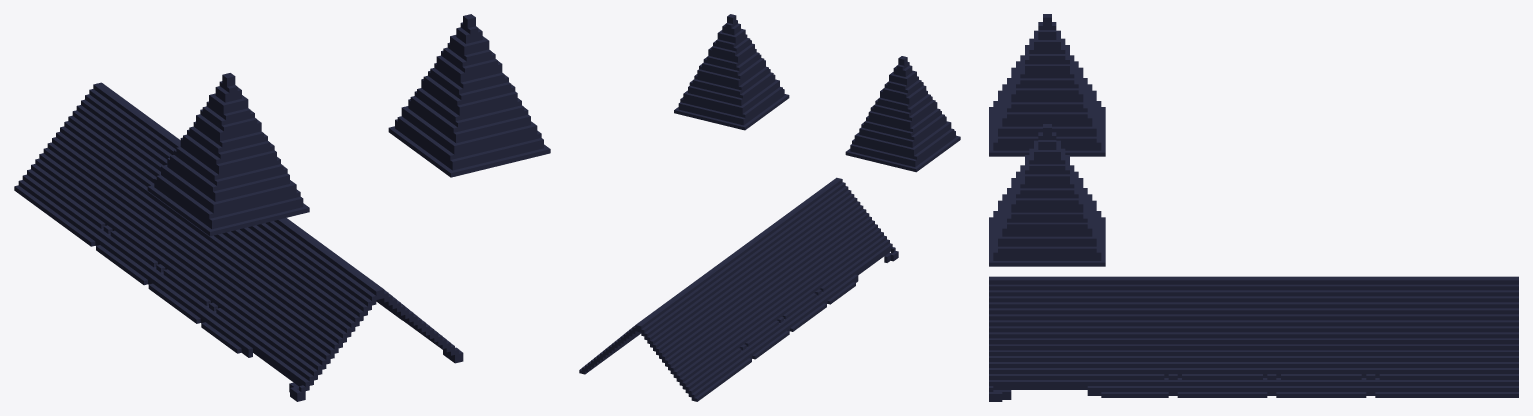
File: church-34-ch_roofblue.obj
The picture shows the model from 3 angles, left to right: view 1: azimuth 30°, elevation 25°; view 2: azimuth 150°, elevation 25°; view 3: azimuth 270°, elevation 25°; orthographic projection. The views are drawn at different scales.
Visible parts, largest first — view 1: ch_roofblue; view 2: ch_roofblue; view 3: ch_roofblue.
Boxes of the visible parts, bbox=[...] form: ch_roofblue: bbox=[14, 14, 550, 401]; ch_roofblue: bbox=[579, 14, 960, 401]; ch_roofblue: bbox=[989, 14, 1518, 401].
Size of the model in its own units: 8.2 by 7.2 by 11.8.
Materials: 1 (1 with a texture image).
